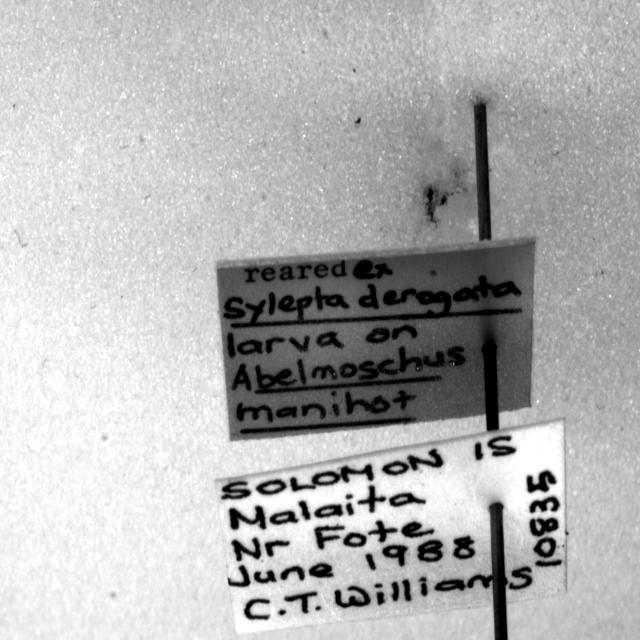hand_label: (216, 420, 566, 634)
mixed_label: (216, 242, 535, 441)
